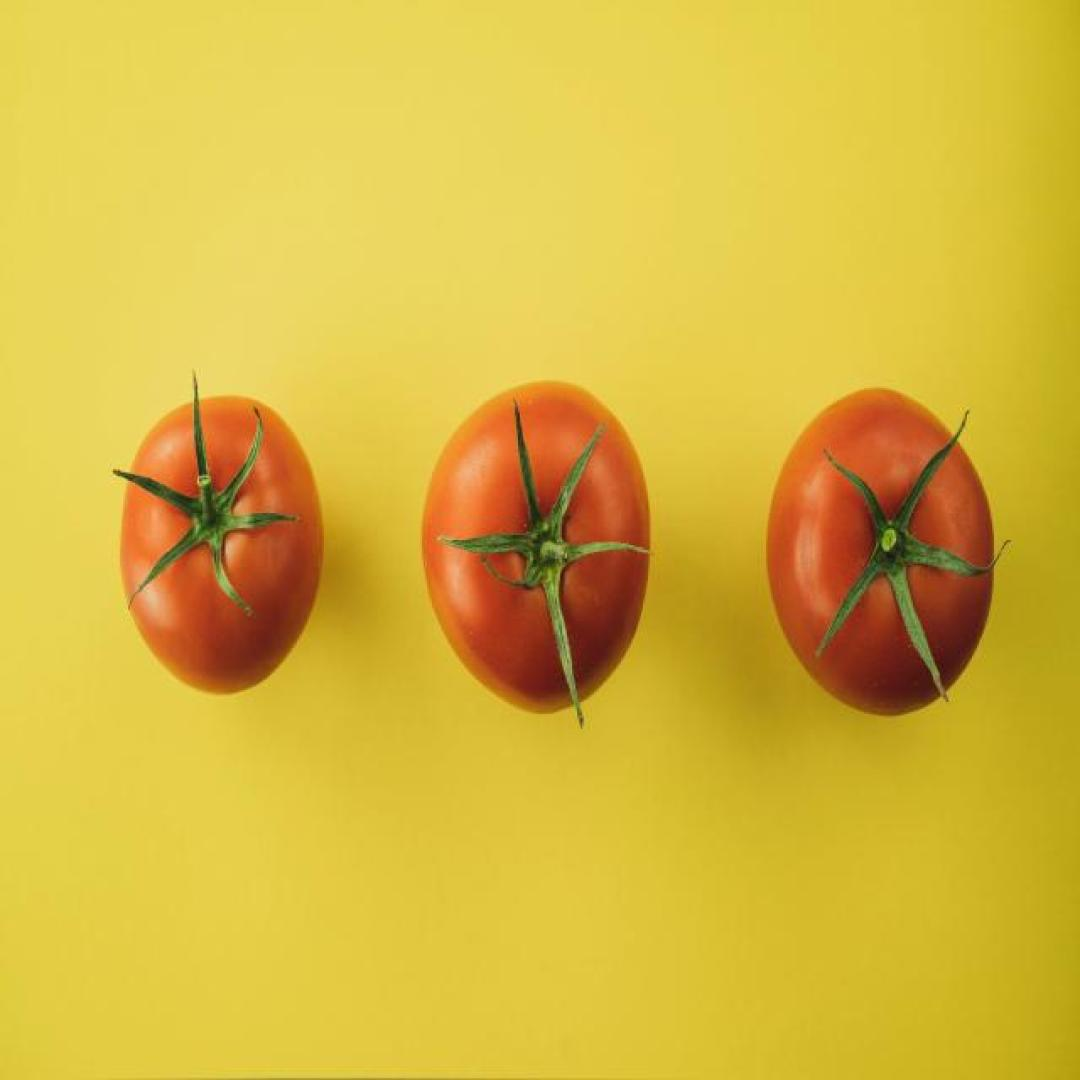matang: (422, 378, 655, 729), (766, 386, 994, 719), (111, 373, 324, 695)
